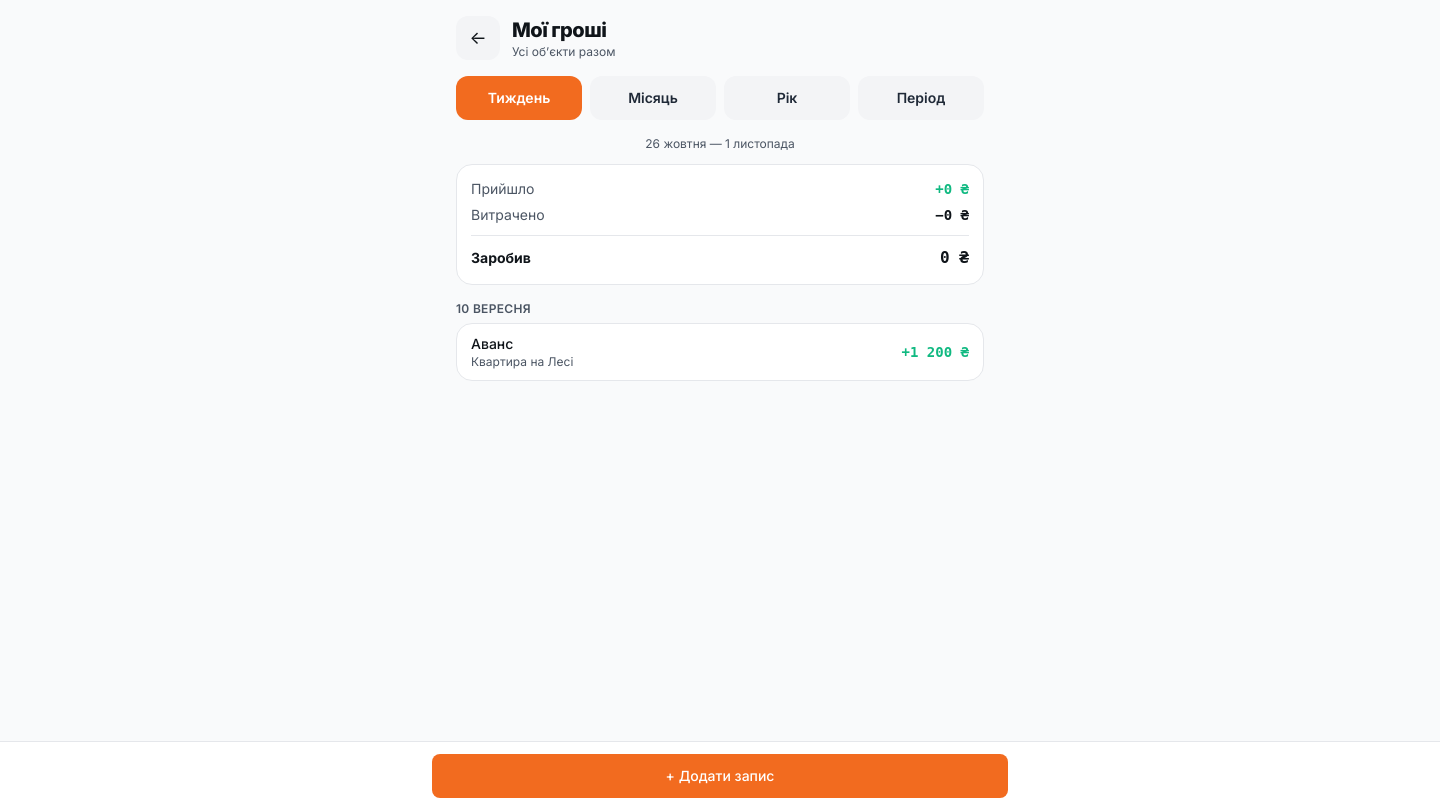
CashFlowPage › does not offer to rename a payment that belongs to a stage
Click the text "Аванс".
click(492, 344)  # box [471,335,513,352]
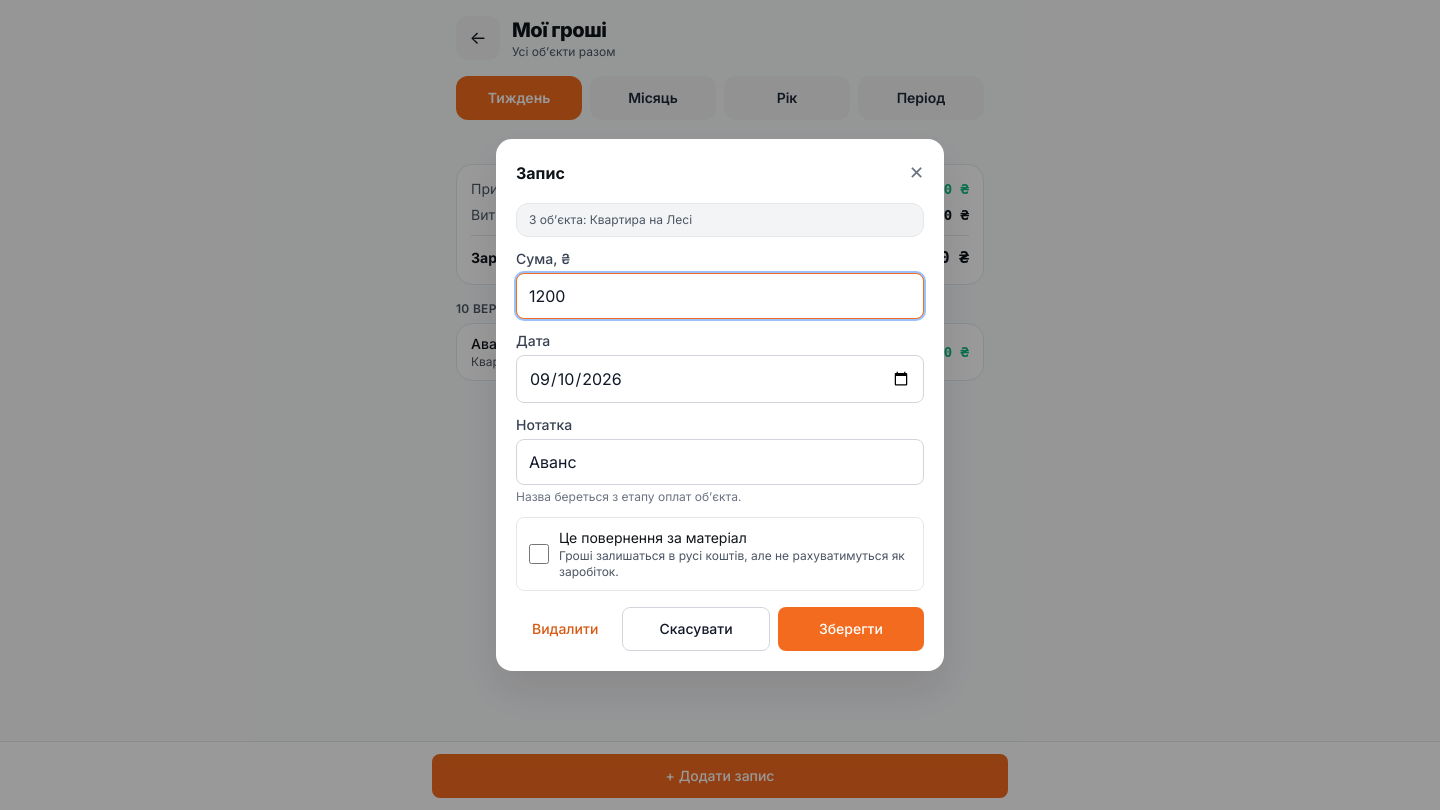
Result: the field showing "Аванс" is disabled at [516,439,924,485]
Result: the text "Назва береться з етапу оплат обʼєкта." is shown at [516,489,741,504]
